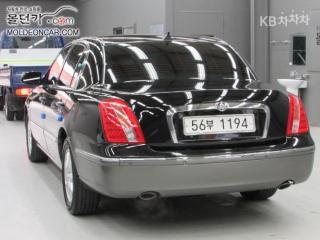1: (219, 117, 226, 132), (226, 117, 234, 130)
4: (241, 117, 251, 129)
5: (191, 118, 199, 132)
6: (199, 119, 206, 132)
9: (233, 117, 241, 130)
plate: (179, 112, 261, 136)
부: (206, 119, 216, 131)
